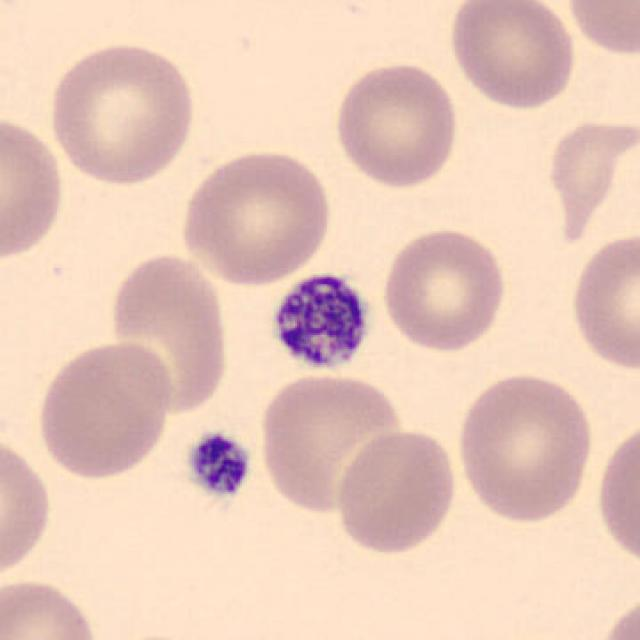Platelets: (265, 270, 377, 376), (183, 430, 253, 503)
RBC: (45, 38, 199, 188), (176, 145, 336, 289), (453, 367, 598, 525), (254, 368, 407, 516), (105, 248, 233, 418), (32, 337, 176, 483), (331, 58, 462, 192), (330, 425, 460, 557), (379, 224, 510, 354), (444, 0, 580, 111), (540, 111, 638, 249), (0, 110, 68, 266), (566, 227, 638, 374), (0, 432, 55, 584), (592, 414, 638, 575), (0, 575, 105, 640), (562, 0, 638, 58), (596, 589, 638, 640)
